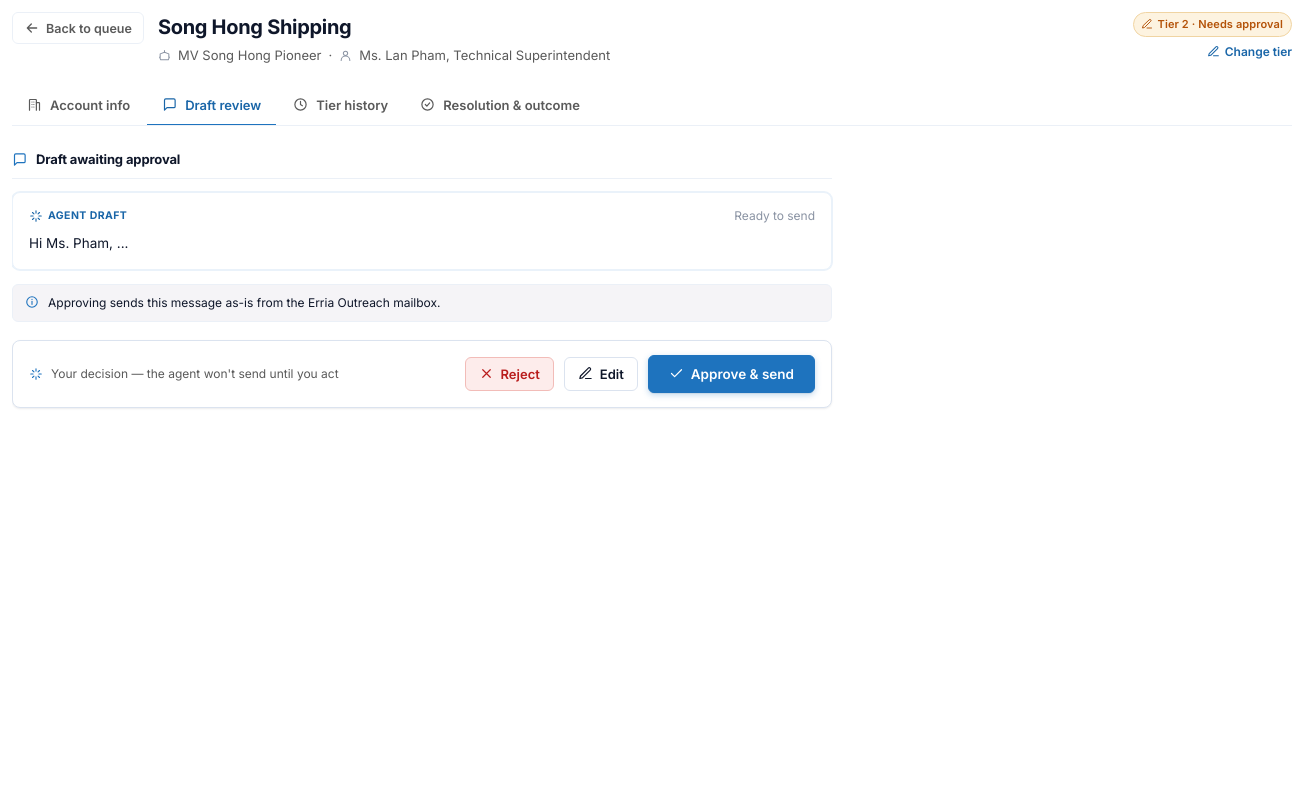
Test case: AccountDetailPage › renders the trust block and ICP fit meter on the account info tab
Check: the heading "Song Hong Shipping" is shown, box [158,15,351,39]
Click the button "Account info" at (79, 106), box [12,86,145,126]
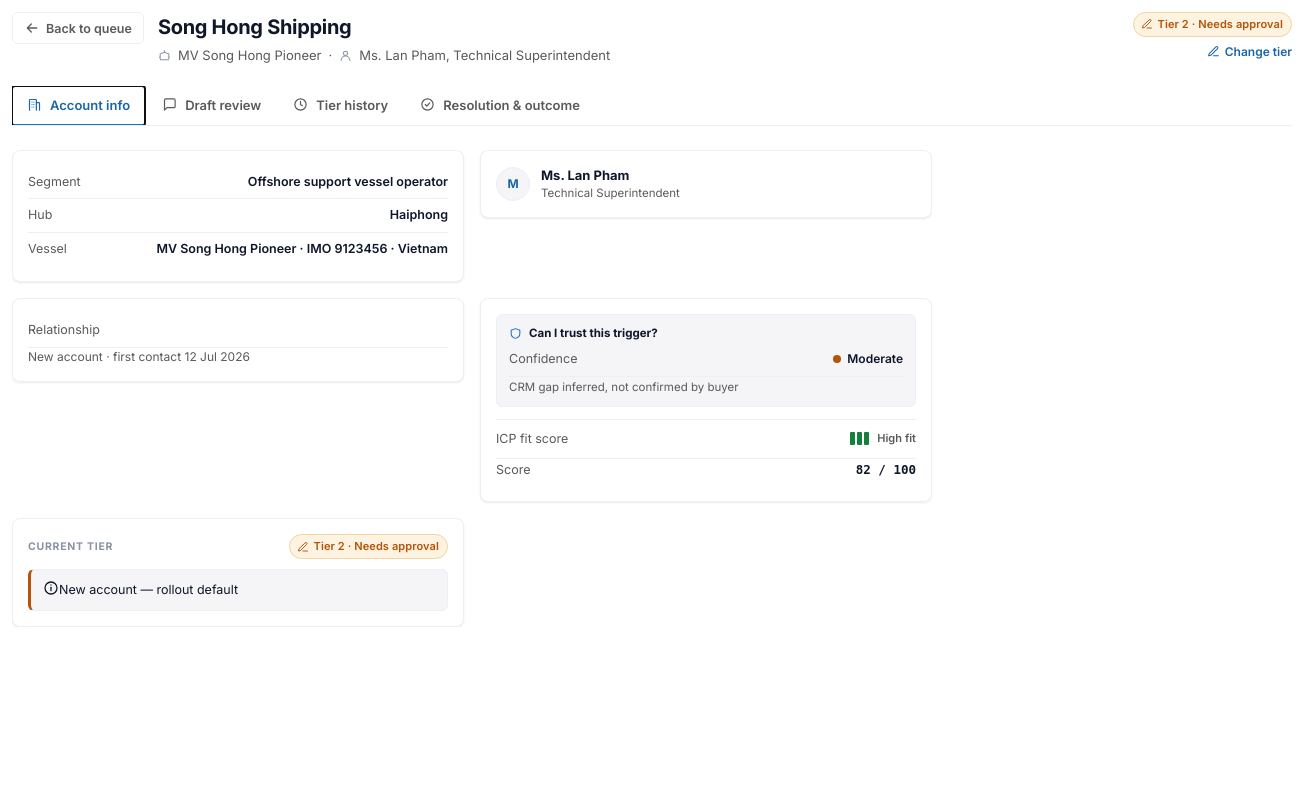
Check: the text "Can I trust this trigger?" is shown, box [509,326,658,340]
Check: the text "Moderate" is shown, box [833,350,903,368]
Check: the text "CRM gap inferred, not confirmed by buyer" is shown, box [509,380,738,394]
